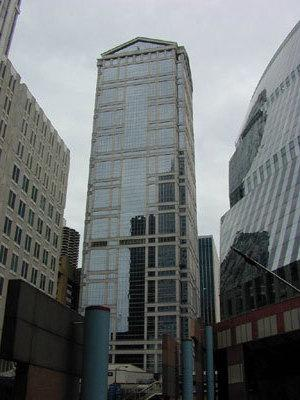building: (82, 37, 201, 400), (219, 20, 300, 400), (0, 0, 70, 347), (199, 234, 220, 322)
